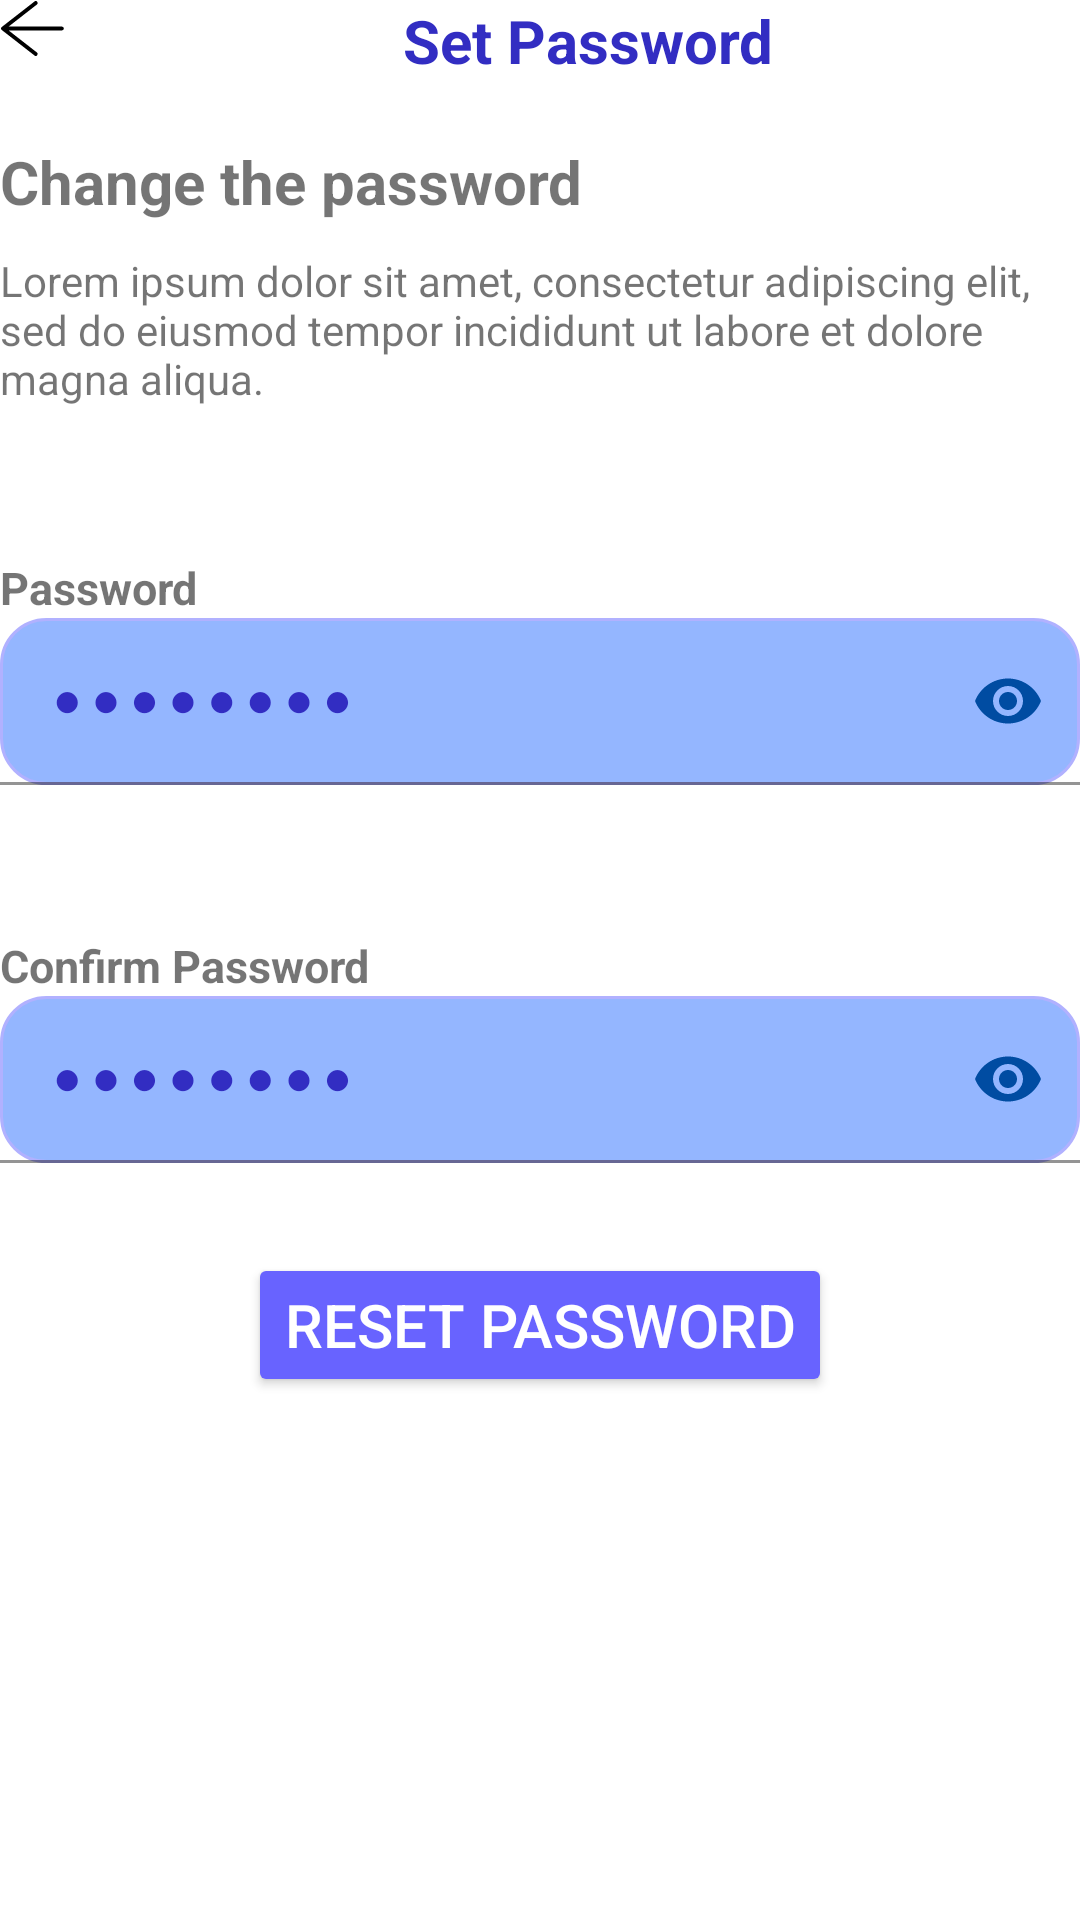

Icon click points for this 1080w x 1920h phone screenshot, format point (x, y):
arrow: point (32, 28)
